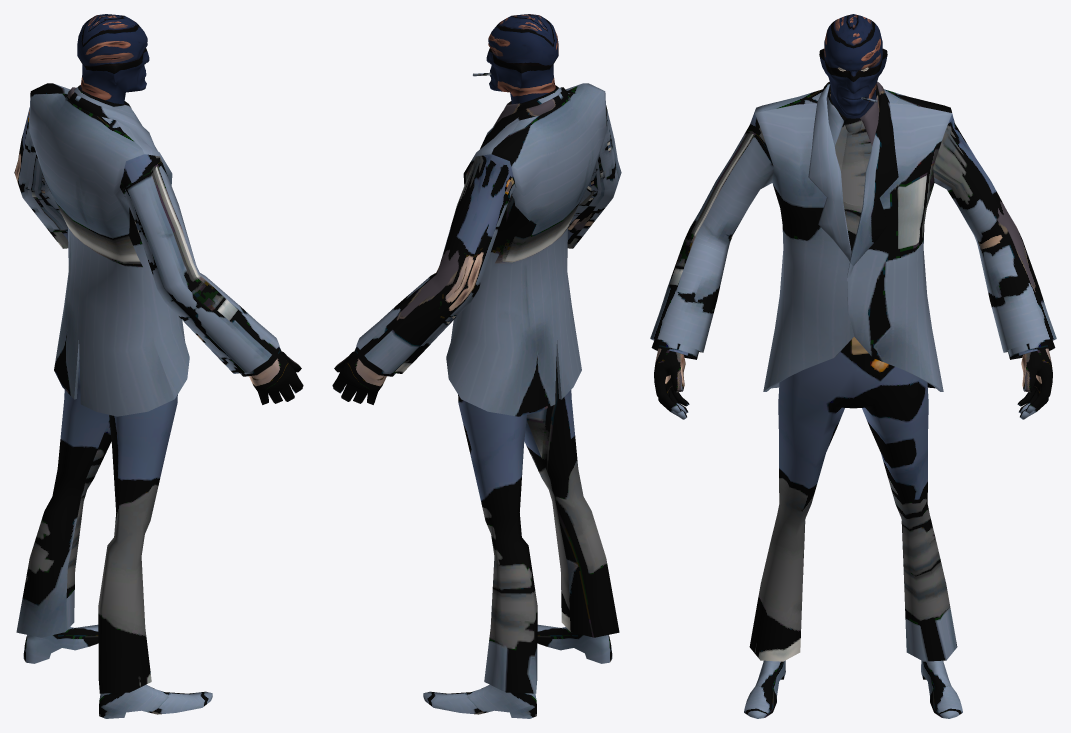
Rendered from spy_blue.glb.
3 views of the same model, side by side, from view 1: azimuth 30°, elevation 25°; view 2: azimuth 150°, elevation 25°; view 3: azimuth 270°, elevation 25° (orthographic).
Parts seen in each view (by area): view 1: models/player/spy_blue; view 2: models/player/spy_blue; view 3: models/player/spy_blue.
Part boxes in pixels (x1=…): models/player/spy_blue: x1=14, y1=14, x2=303, y2=718; models/player/spy_blue: x1=332, y1=14, x2=621, y2=718; models/player/spy_blue: x1=650, y1=14, x2=1056, y2=718.
Bounding box in the file's own units: 20.48 × 82.91 × 45.22.
4 materials, 4 textured.
